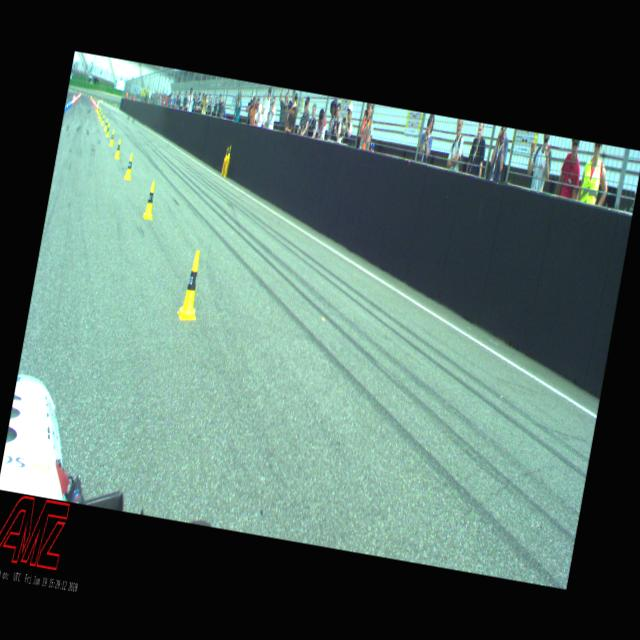blue_cone: (65, 101, 69, 110), (67, 100, 70, 108), (64, 104, 66, 113)
yellow_cone: (175, 248, 207, 321), (142, 178, 158, 220), (124, 153, 135, 180), (114, 138, 122, 160), (108, 129, 115, 146), (227, 145, 232, 159), (103, 118, 108, 131), (224, 145, 228, 160), (106, 123, 110, 137), (101, 114, 105, 126), (99, 112, 102, 121), (98, 109, 101, 118), (98, 108, 100, 115)
